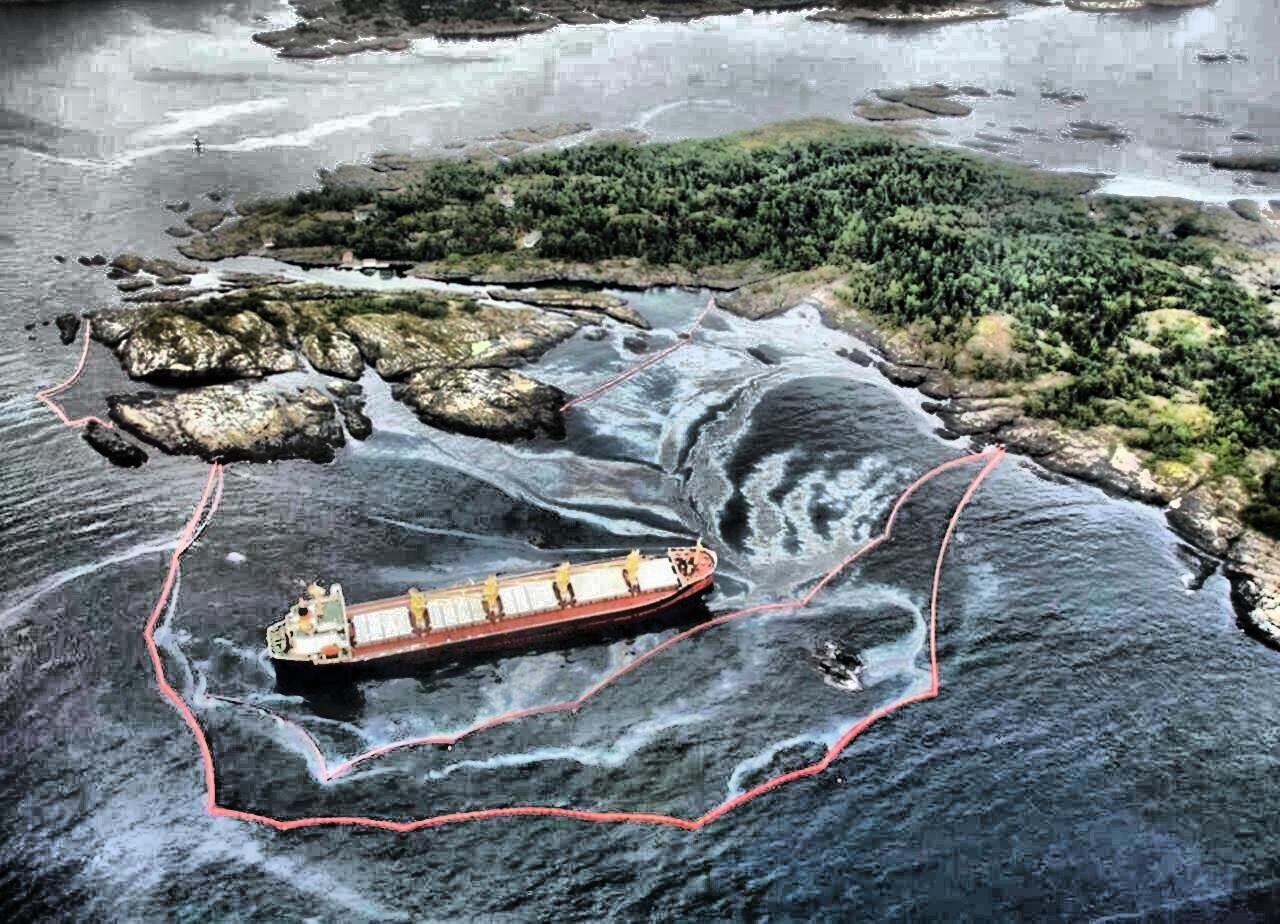sheen: (356, 291, 917, 596), (808, 583, 927, 679), (573, 622, 675, 707), (484, 656, 566, 714)
